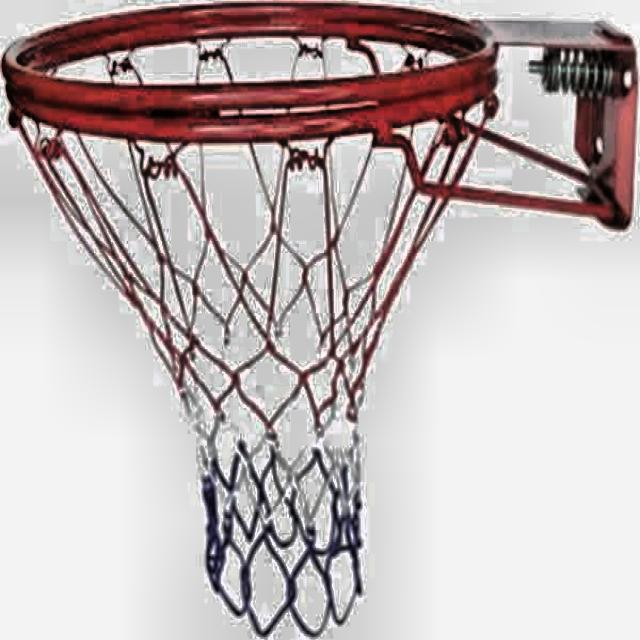rim: (2, 1, 495, 640)
